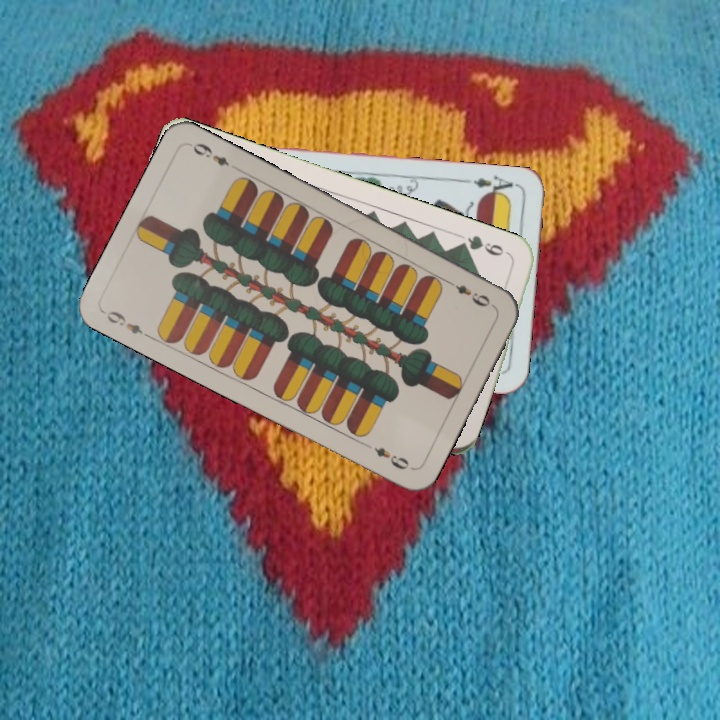E9: (442, 276, 497, 311), (102, 306, 154, 341)
EA: (469, 171, 520, 200)
G9: (454, 231, 514, 261)
